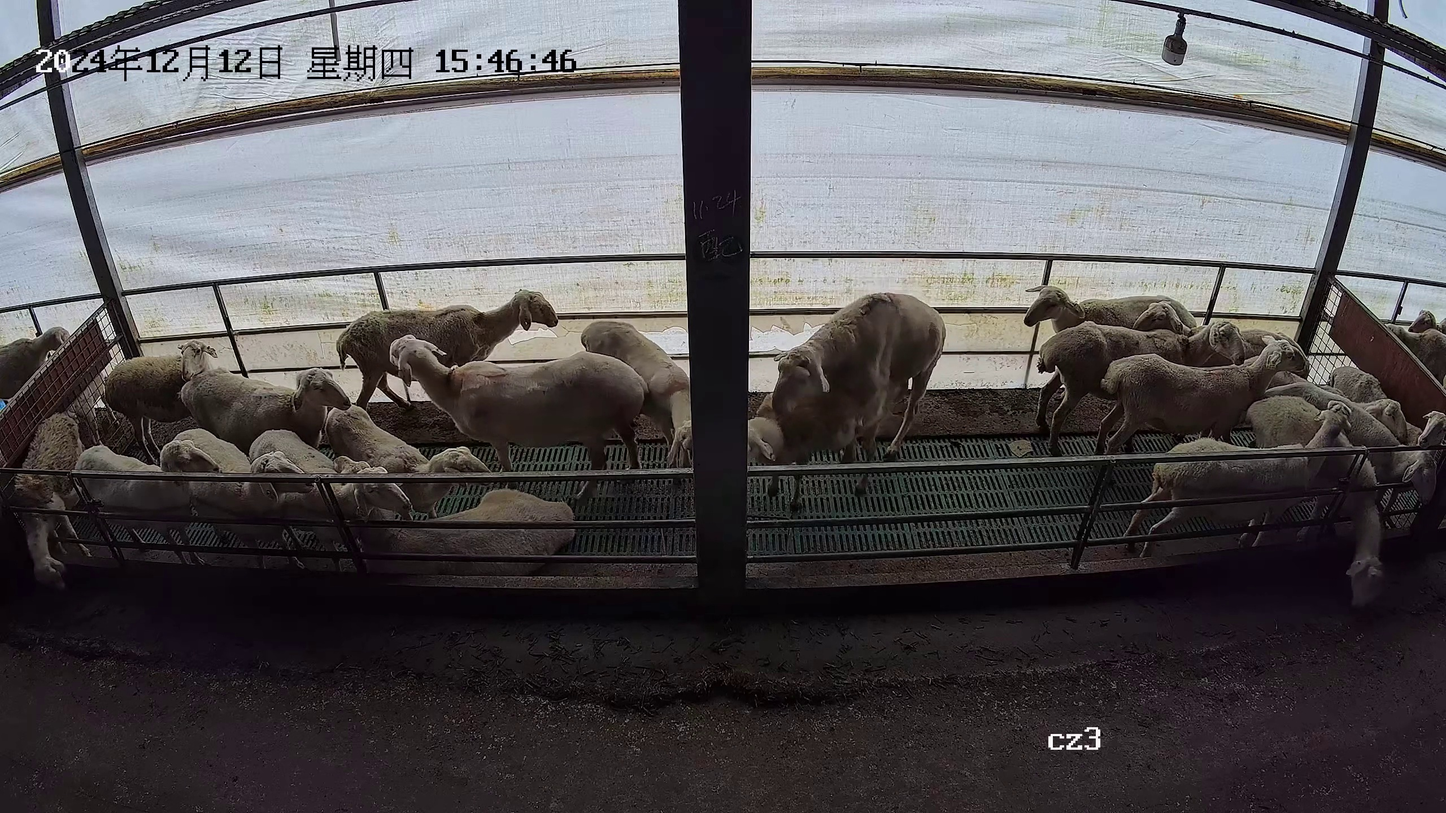Smounting: (744, 290, 947, 512)
mounted: (747, 362, 896, 509)
